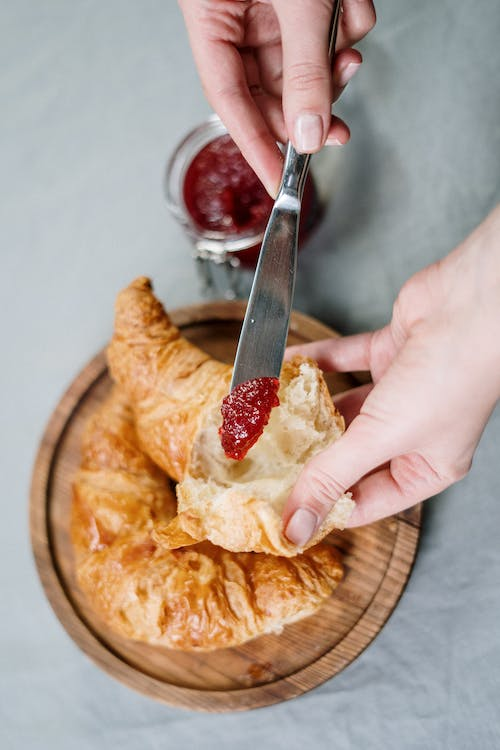knife: (218, 0, 345, 458)
